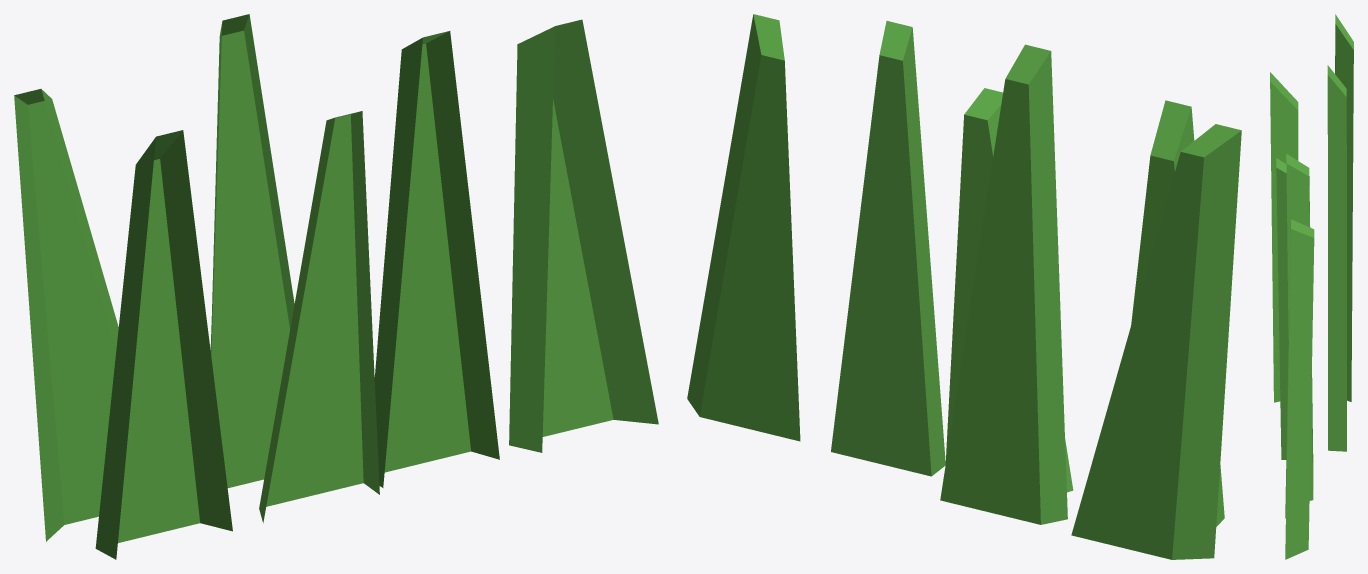
File: grass_test.fbx
The picture shows the model from 3 angles, left to right: view 1: azimuth 30°, elevation 25°; view 2: azimuth 150°, elevation 25°; view 3: azimuth 270°, elevation 25°; orthographic projection. The views are drawn at different scales.
Visible parts, largest first — view 1: Plane; view 2: Plane; view 3: Plane.
Part boxes in pixels (x1=…): Plane: x1=14, y1=14, x2=658, y2=559; Plane: x1=687, y1=14, x2=1241, y2=559; Plane: x1=1270, y1=14, x2=1353, y2=559.
Size of the model in its own units: 45.81 by 34.56 by 7.49.
